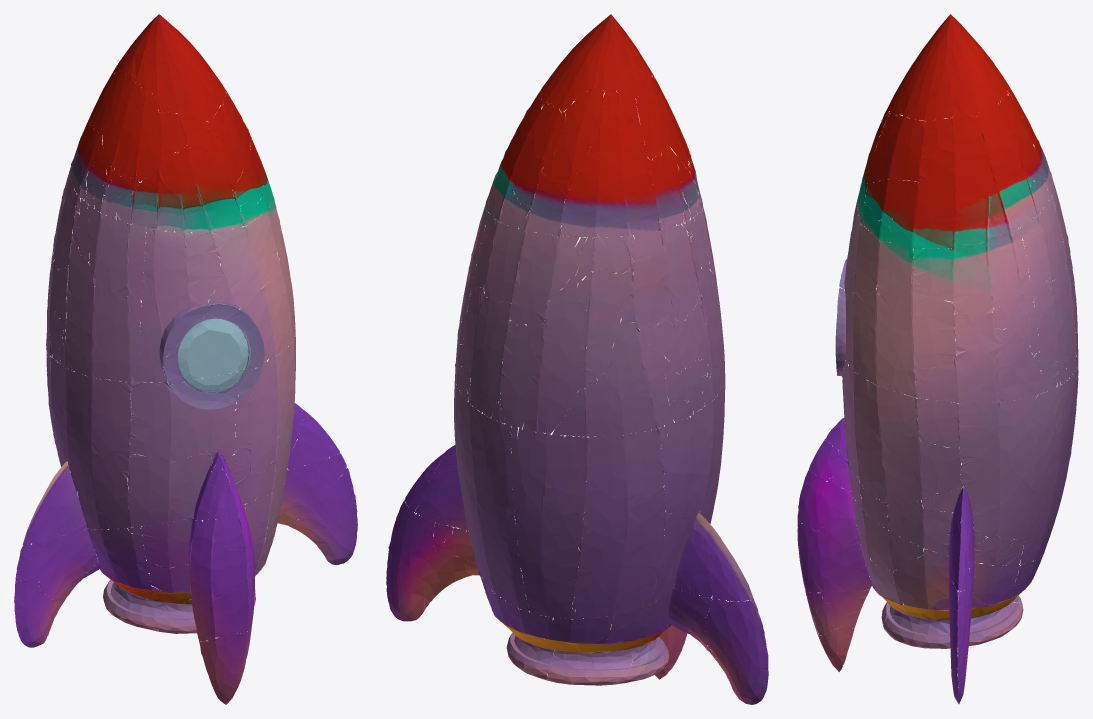
The model's file is rocket-draco.glb.
3 views of the same model, side by side, from view 1: azimuth 30°, elevation 25°; view 2: azimuth 150°, elevation 25°; view 3: azimuth 270°, elevation 25° (orthographic). The views are drawn at different scales.
Parts seen in each view (by area): view 1: tmpuikj3frk.obj; view 2: tmpuikj3frk.obj; view 3: tmpuikj3frk.obj.
Boxes of the visible parts, x1=… form: tmpuikj3frk.obj: x1=14, y1=14, x2=357, y2=704; tmpuikj3frk.obj: x1=386, y1=14, x2=768, y2=704; tmpuikj3frk.obj: x1=797, y1=14, x2=1078, y2=704.
Bounding box in the file's own units: 0.9548 × 1.72 × 0.6704.
Materials: 1 (1 with a texture image).
